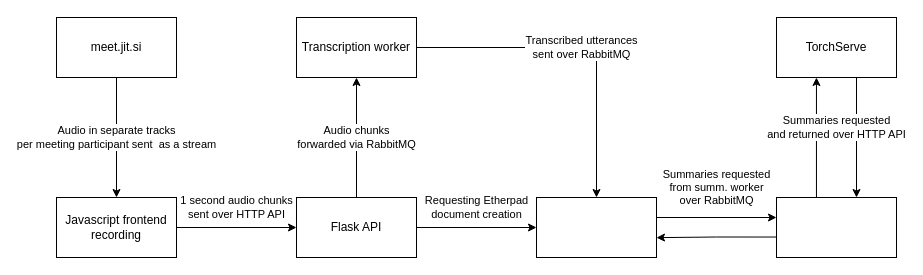
Some shapes in this 923 by 275 pixel diagram are drawn without their labels. Here are the shapes that lost their labels. From the top down, the centre of each, then its label:
(596,227): ep_minuteman Etherpad plugin
(836,227): Summarization Worker
